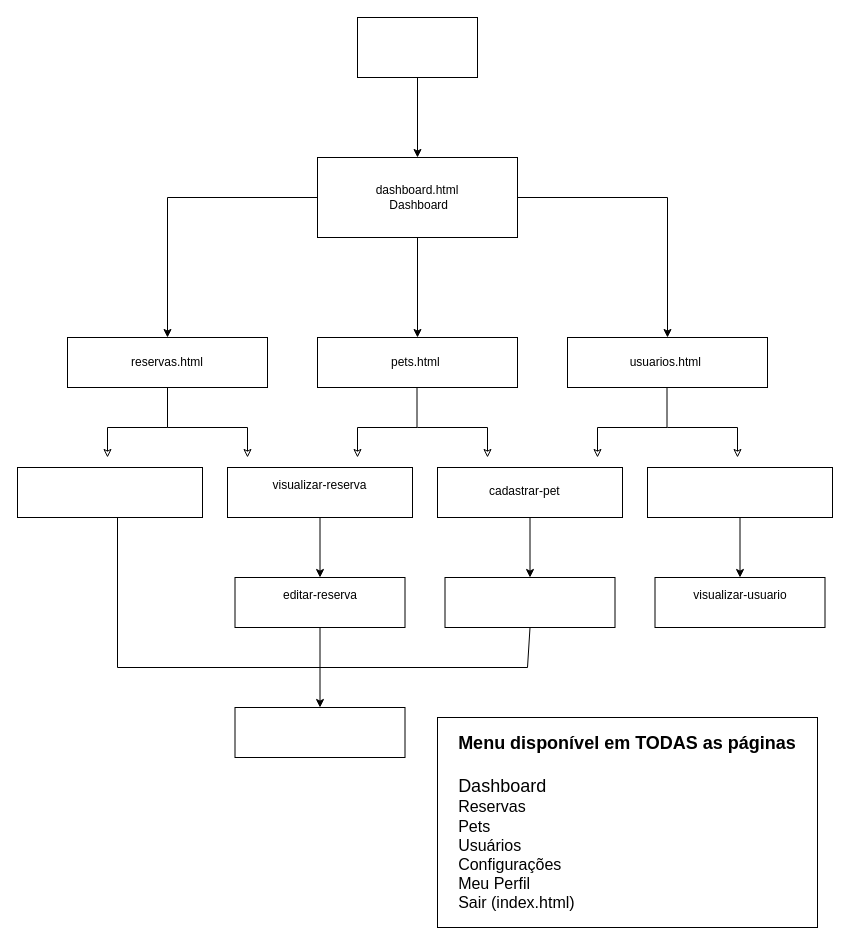
Image size: 850x945. Some labels were removed from this diagram. The centre of each missing label's shape, as x and y in pixels:
cadastrar-usuario: (739,492)
dashboard.html: (319,732)
index.html login: (417,47)
nova-reserva: (109,492)
visualizar-pet │: (529,602)
